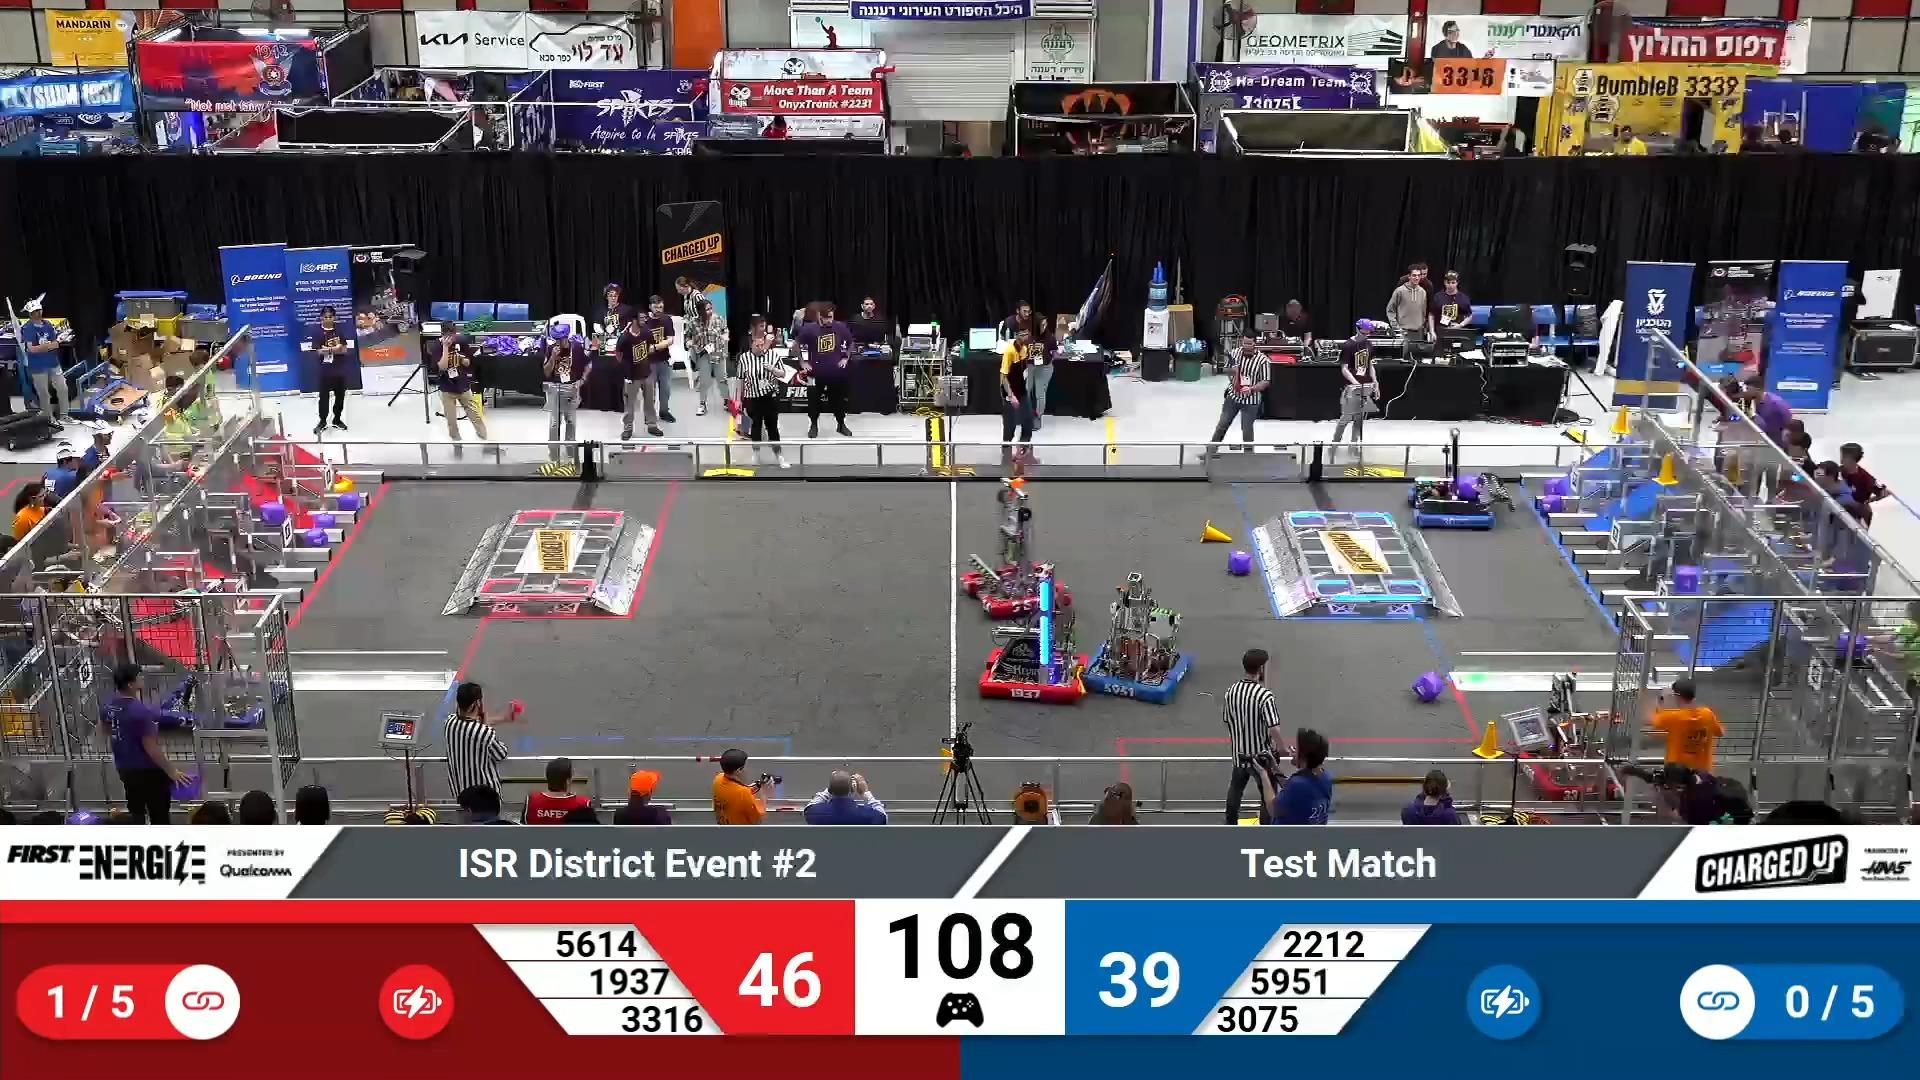robot: (61, 582, 282, 733), (959, 473, 1072, 616), (975, 560, 1083, 705), (1514, 673, 1623, 803), (1091, 572, 1191, 703), (1406, 425, 1497, 529)
